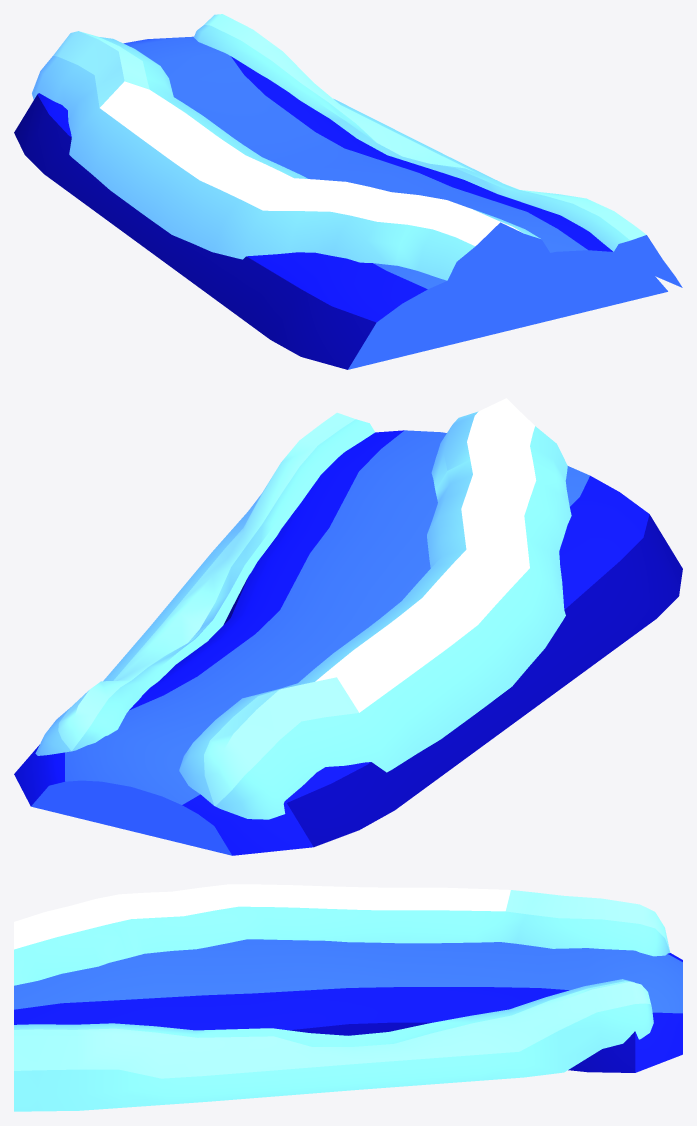
The model's file is shot_lightning_212.glb.
3 renders of one model, top to bottom at view 1: azimuth 30°, elevation 25°; view 2: azimuth 150°, elevation 25°; view 3: azimuth 270°, elevation 25°, orthographic. The views are drawn at different scales.
Parts seen in each view (by area): view 1: shot_lightning_212_0, shot_lightning_212_1, shot_lightning_212_2; view 2: shot_lightning_212_0, shot_lightning_212_1, shot_lightning_212_2; view 3: shot_lightning_212_0, shot_lightning_212_2, shot_lightning_212_1.
Boxes of the visible parts, x1,y1,x2,y2 form: shot_lightning_212_0: (14,36,667,369); shot_lightning_212_1: (32,31,552,280); shot_lightning_212_2: (194,14,682,287); shot_lightning_212_0: (14,430,682,855); shot_lightning_212_1: (179,398,571,819); shot_lightning_212_2: (35,412,375,755); shot_lightning_212_0: (14,939,682,1072); shot_lightning_212_2: (14,979,653,1111); shot_lightning_212_1: (14,884,670,985).
Bounding box in the file's own units: 8.33 × 2.55 × 14.
